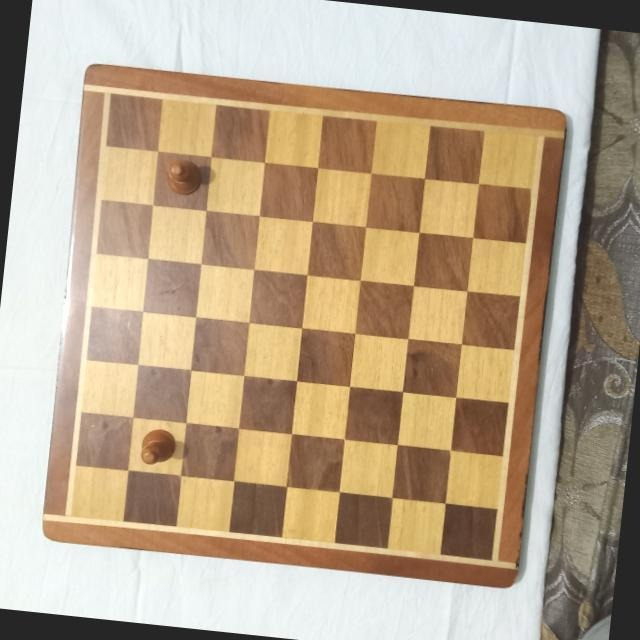white-pawn: (161, 155, 205, 197), (135, 425, 177, 469)
